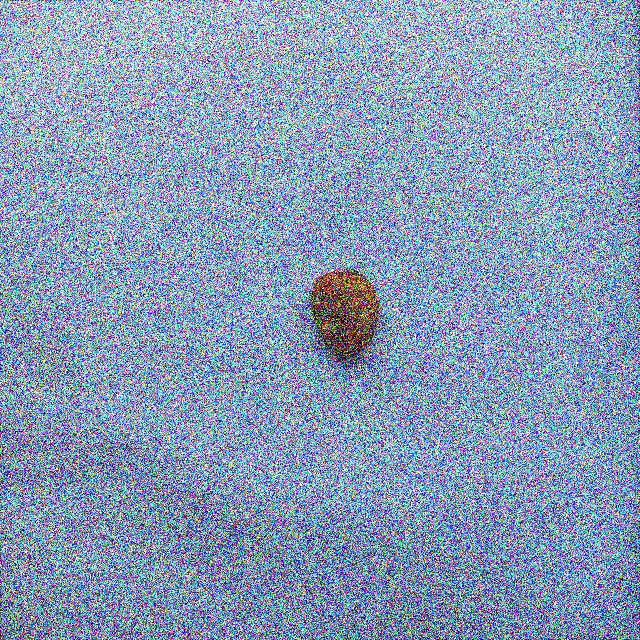grade3: (306, 265, 381, 363)
